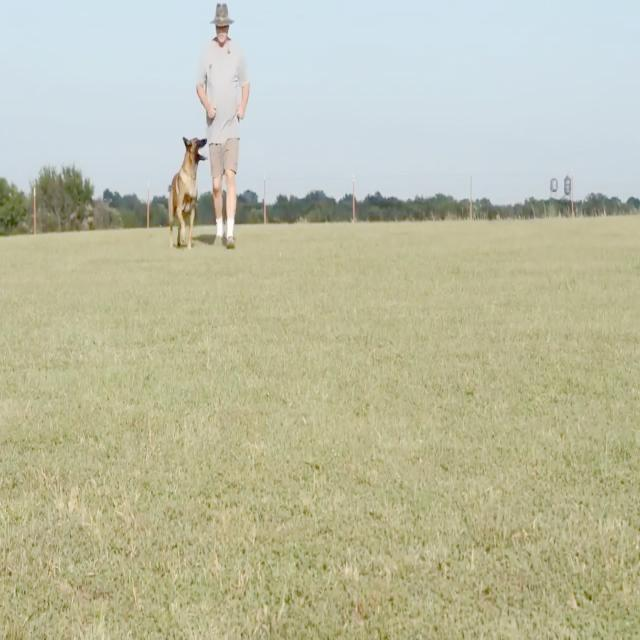Unleashed_Dog: (168, 124, 230, 251)
